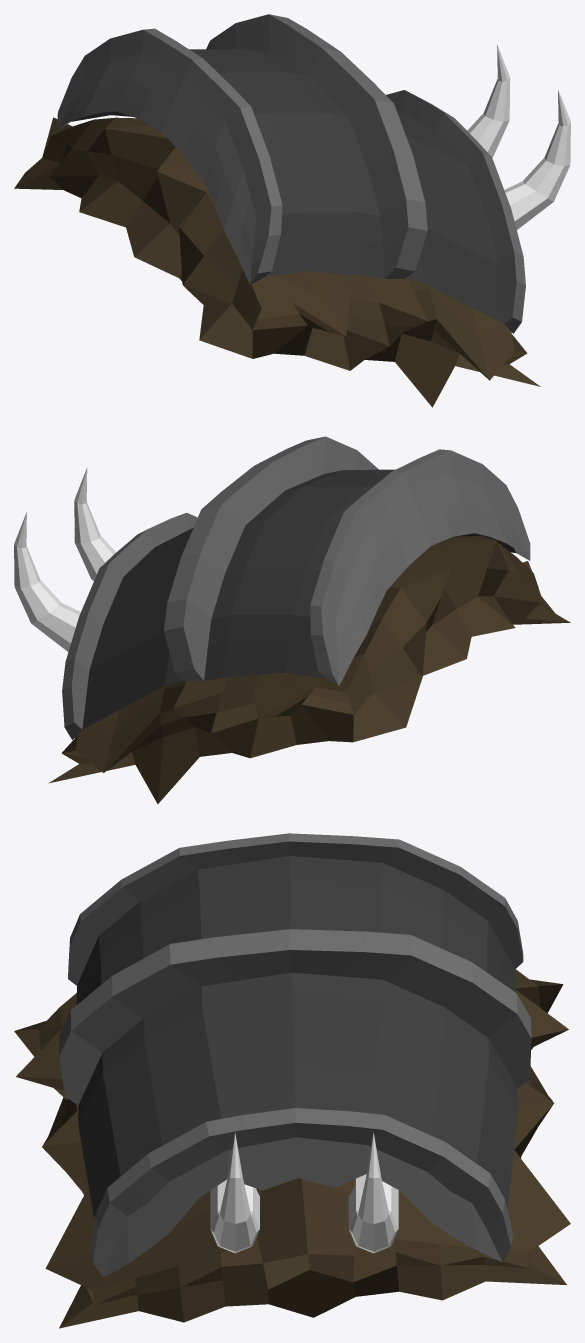
The model's file is Goblin-ShoulderPad 1.fbx.
3 renders of one model, top to bottom at view 1: azimuth 30°, elevation 25°; view 2: azimuth 150°, elevation 25°; view 3: azimuth 270°, elevation 25°, orthographic. The views are drawn at different scales.
Parts seen in each view (by area): view 1: Cylinder.002; view 2: Cylinder.002; view 3: Cylinder.002.
Boxes of the visible parts, <box> form: Cylinder.002: <box>14,14,570,407</box>; Cylinder.002: <box>14,436,570,804</box>; Cylinder.002: <box>14,833,570,1328</box>.
Size of the model in its own units: 66.37 by 45.14 by 63.17.
